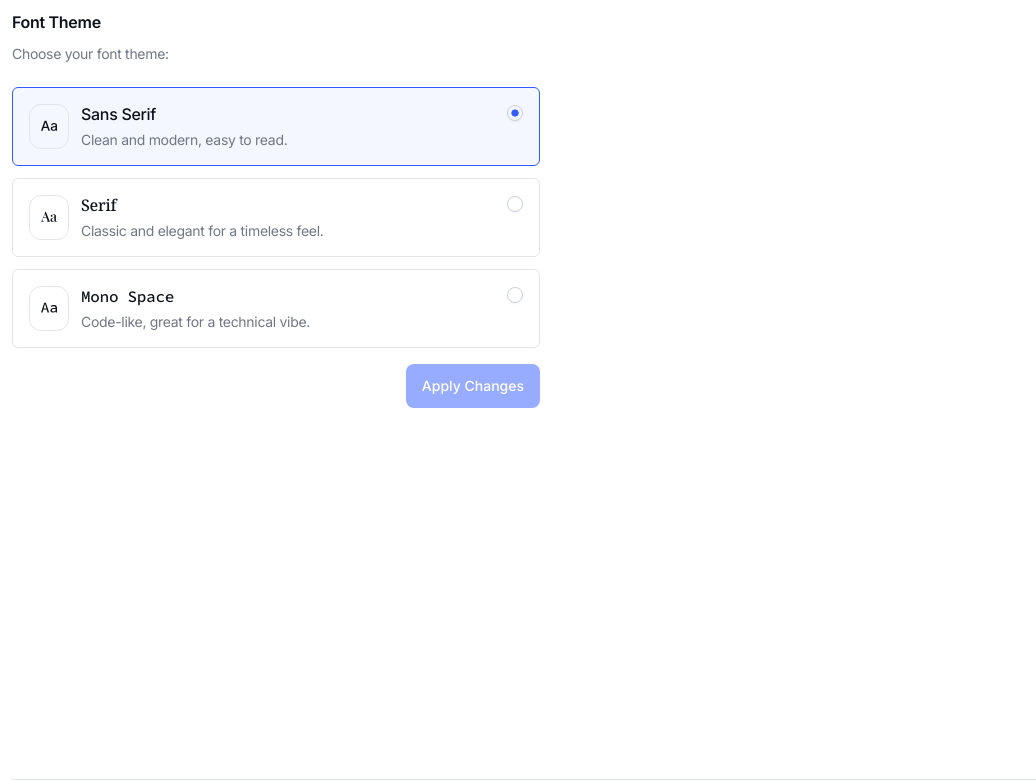
Test: FontOptionsPage › end to end: applying a font sets data-font on <html>
Click the 2nd radio button named "serif": (515, 204) [507,196,523,212]
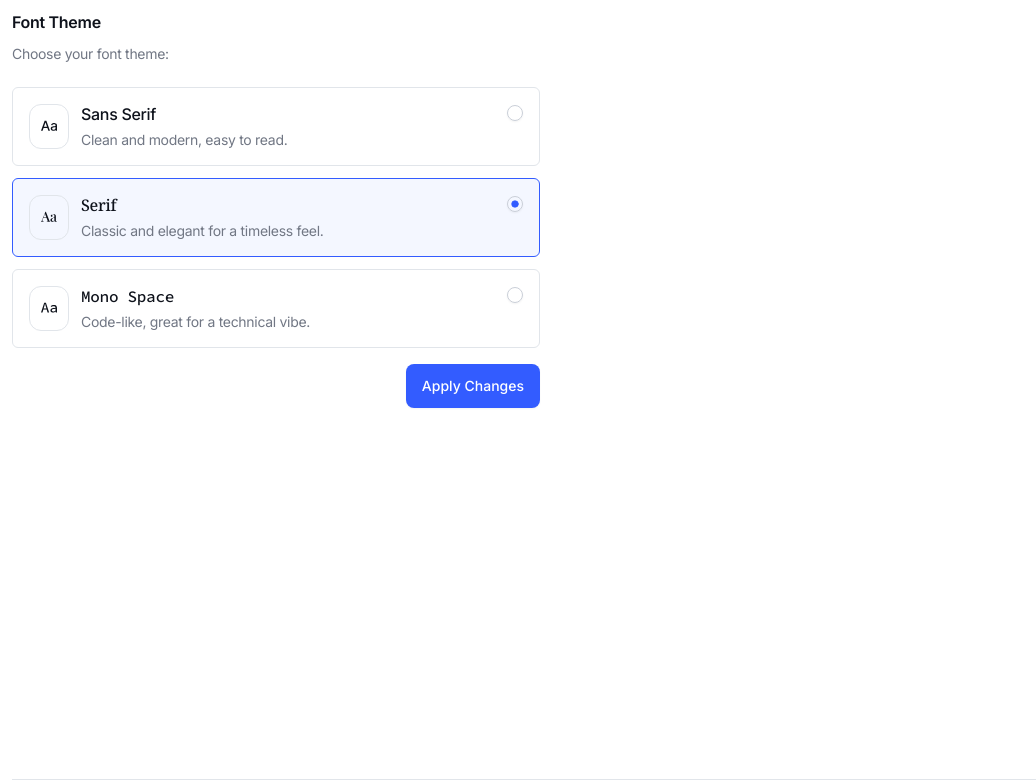
Click the button "Apply Changes": (473, 386) [406,364,540,408]
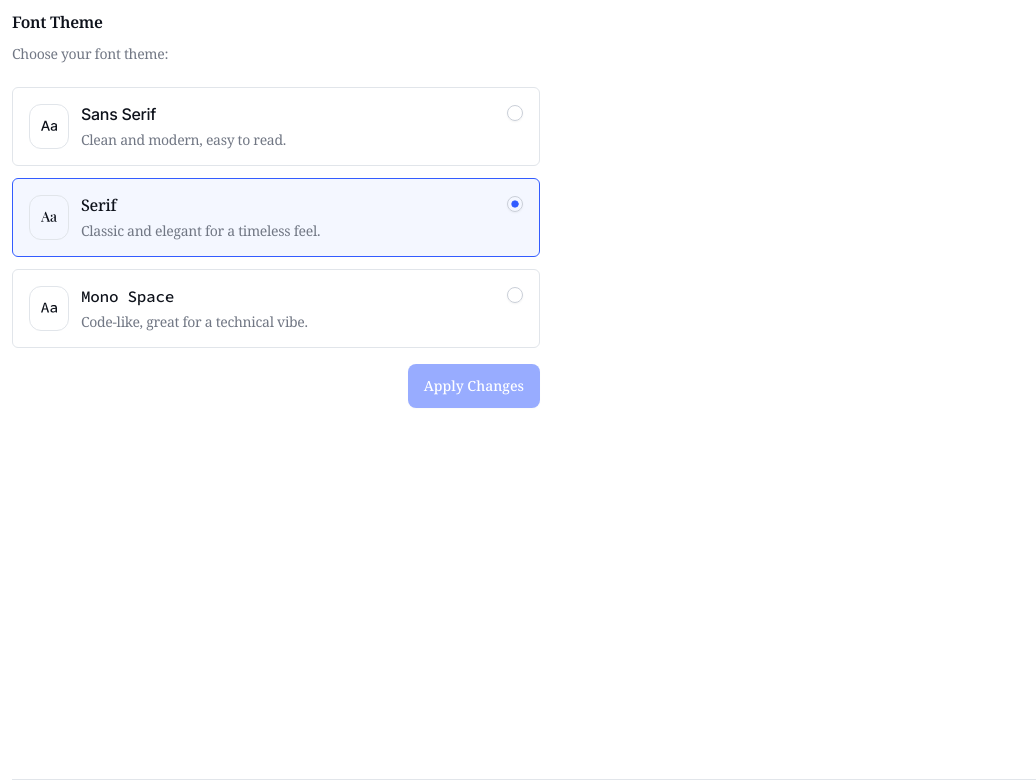
expect the button "Apply Changes" is disabled: met, box [408,364,540,408]
